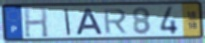4: (159, 5, 180, 36)
8: (132, 7, 153, 36)
A: (75, 8, 105, 36)
H: (23, 7, 50, 39)
I: (63, 7, 72, 36)
R: (102, 8, 129, 35)
